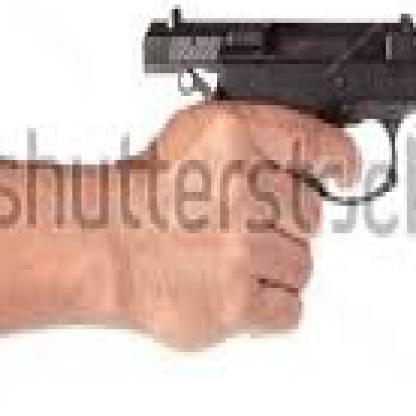gun: (139, 0, 413, 215)
